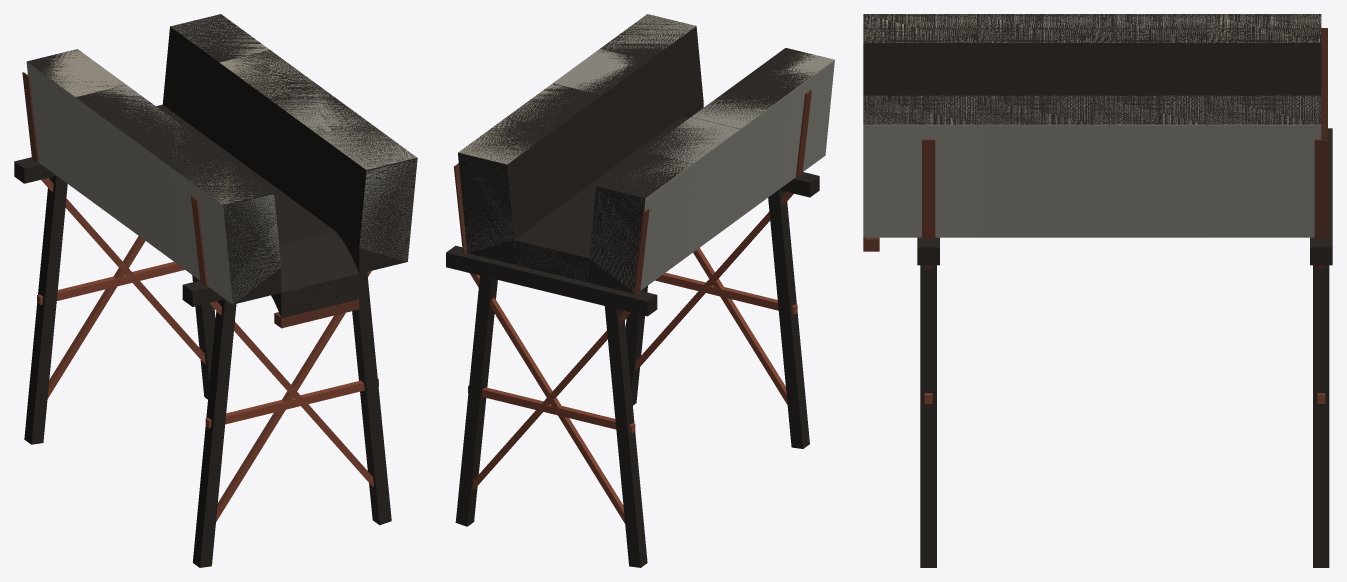
Rendered from flume_pour_spout.glb.
3 renders of one model, left to right at view 1: azimuth 30°, elevation 25°; view 2: azimuth 150°, elevation 25°; view 3: azimuth 270°, elevation 25°, orthographic. The views are drawn at different scales.
Parts seen in each view (by area): view 1: flume_pour_spout-col-col, flume_pour_spout_body; view 2: flume_pour_spout-col-col, flume_pour_spout_body; view 3: flume_pour_spout_body, flume_pour_spout-col-col.
Part boxes in pixels (x1,y1,x2,y2): flume_pour_spout-col-col: [14, 14, 417, 567]; flume_pour_spout_body: [22, 14, 417, 521]; flume_pour_spout-col-col: [446, 14, 826, 567]; flume_pour_spout_body: [454, 14, 834, 523]; flume_pour_spout_body: [863, 14, 1327, 403]; flume_pour_spout-col-col: [863, 14, 1332, 567].
Size of the model in its own units: 8.6 by 15.02 by 14.35.
